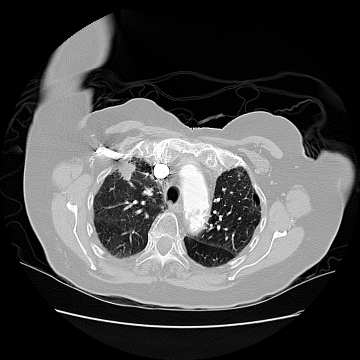nodule: (118, 161, 134, 177)
